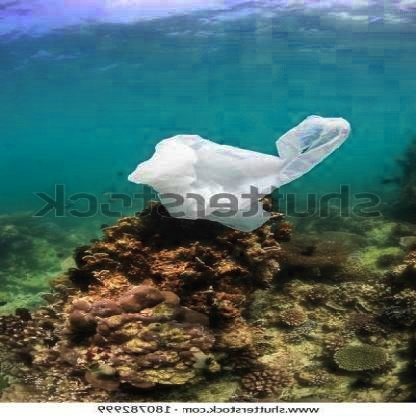pbag: (124, 114, 352, 232)
